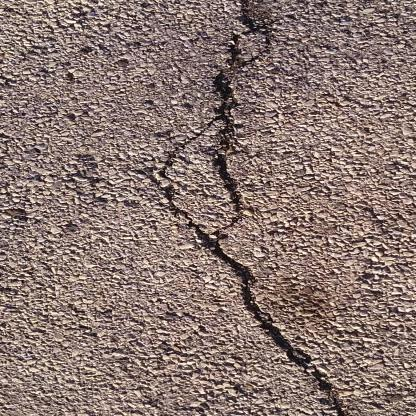Cracks: (154, 0, 374, 416)
